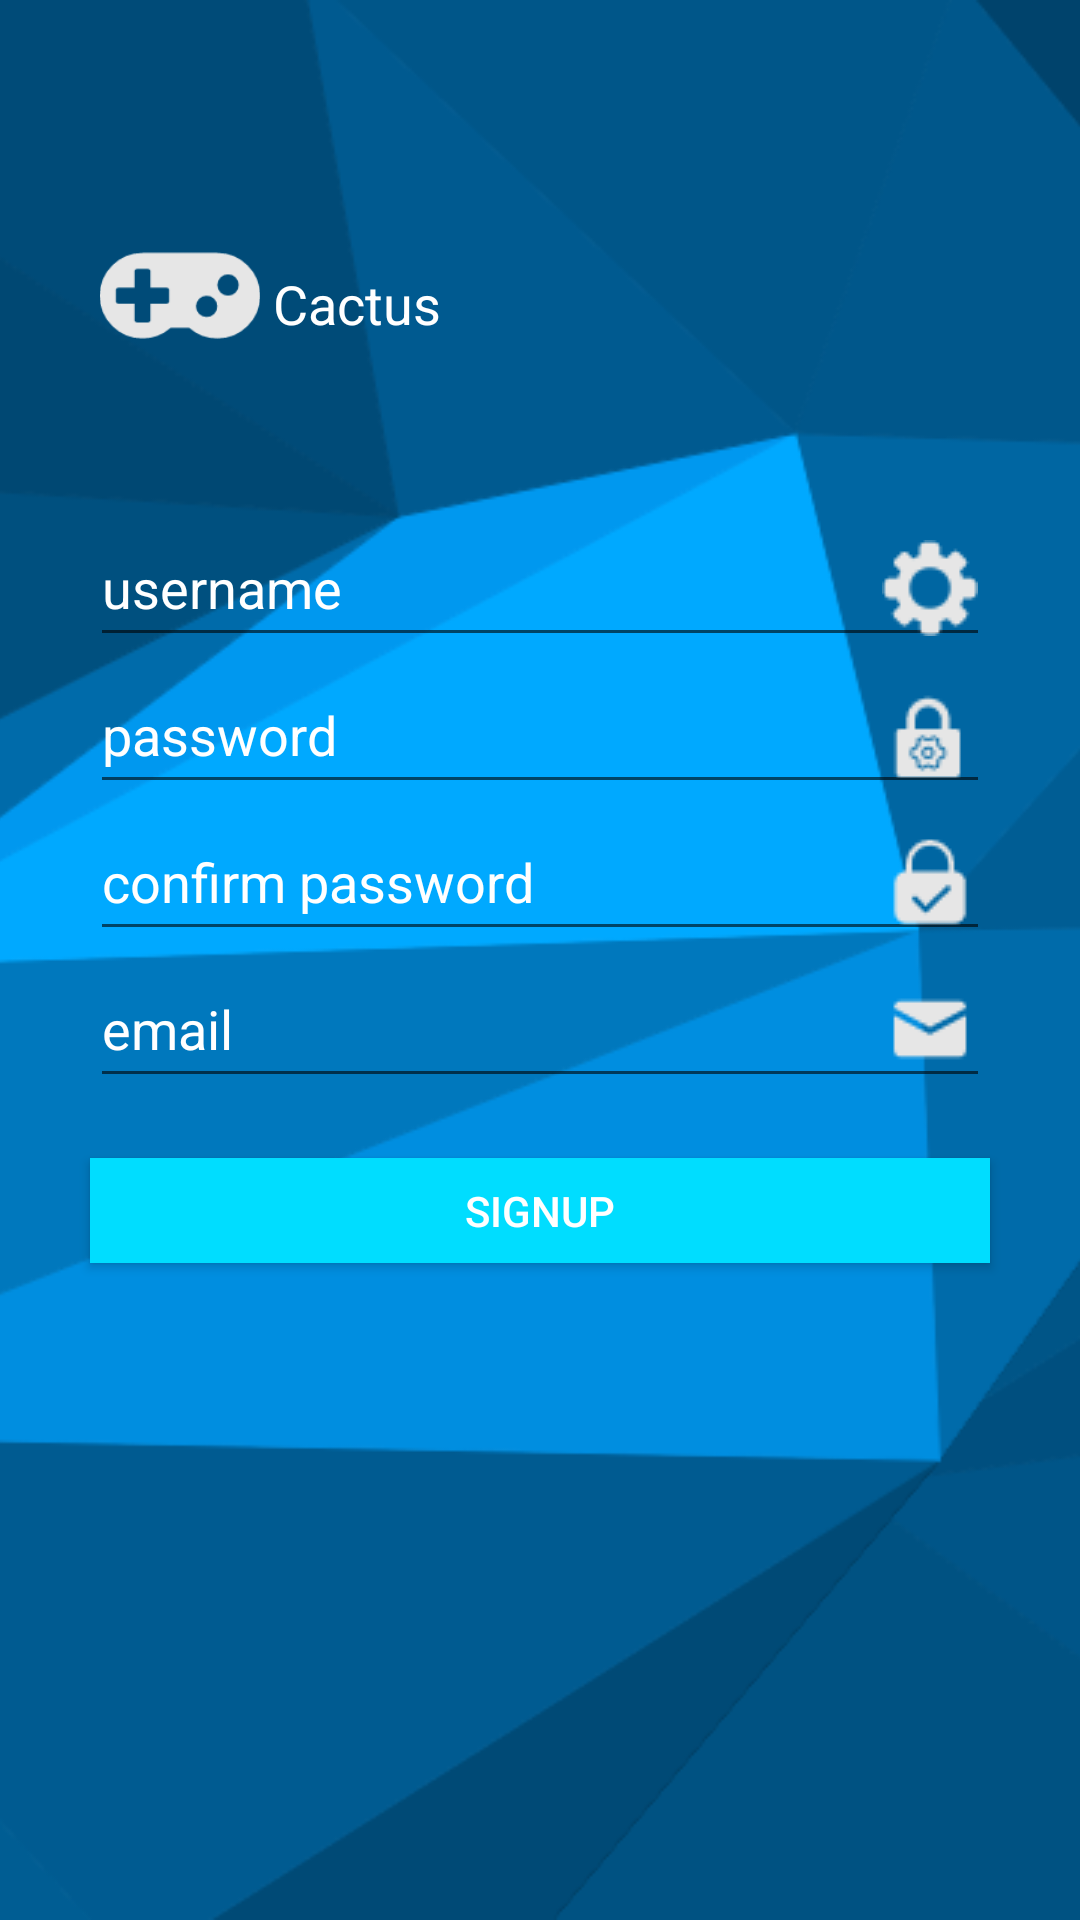

Icons on this 1080w x 1920h Android screen, each with its box as (x1, y1, x2, y2):
gamepad: (100, 252, 260, 339)
